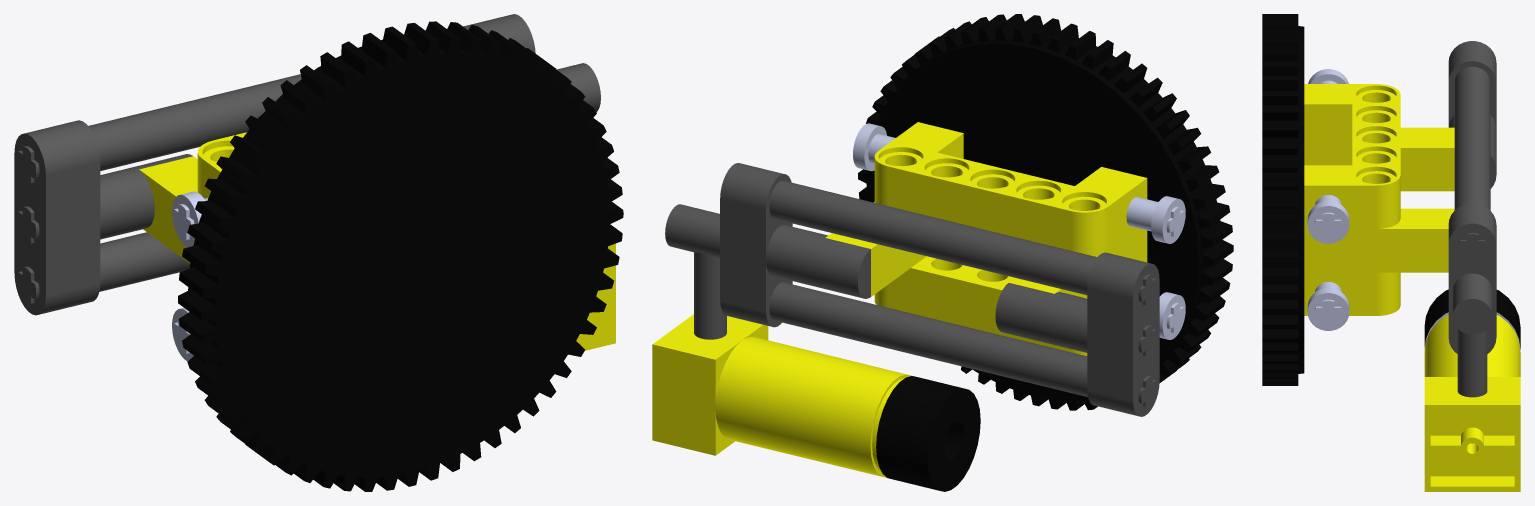
The model's file is Pinza.dae.
3 renders of one model, left to right at view 1: azimuth 30°, elevation 25°; view 2: azimuth 150°, elevation 25°; view 3: azimuth 270°, elevation 25°, orthographic. The views are drawn at different scales.
Visible parts, largest first — view 1: Cut-Extrude11; view 2: Cut-Extrude11; view 3: Cut-Extrude11.
Boxes of the visible parts, x1=… form: Cut-Extrude11: x1=14, y1=14, x2=623, y2=491; Cut-Extrude11: x1=652, y1=14, x2=1233, y2=491; Cut-Extrude11: x1=1262, y1=14, x2=1520, y2=491.
Size of the model in its own units: 3.25 by 2.5 by 1.69.
